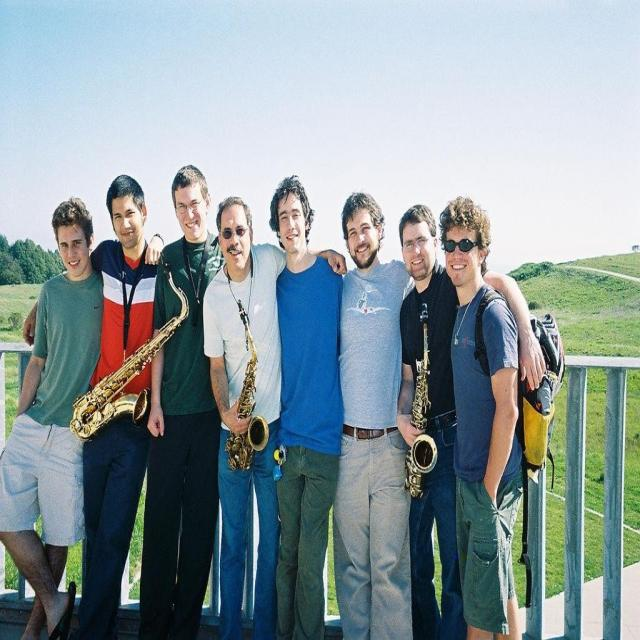saxophone: (72, 263, 193, 439), (218, 296, 271, 474), (402, 299, 440, 498)
